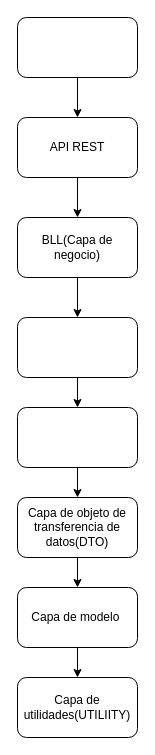
The diagram is 155 pixels wide and 755 high, and some of its shapes have lost their labels. The shapes that lost their labels are listed below. From the top down, each one's box as (x1, y1, x2, y2) in pixels, then its label:
(16, 16, 138, 78): Cliente
(16, 316, 138, 378): Capa de acceso a datos(DAL)
(16, 406, 138, 468): Capa de inyeccion de dependencias(IOC)
